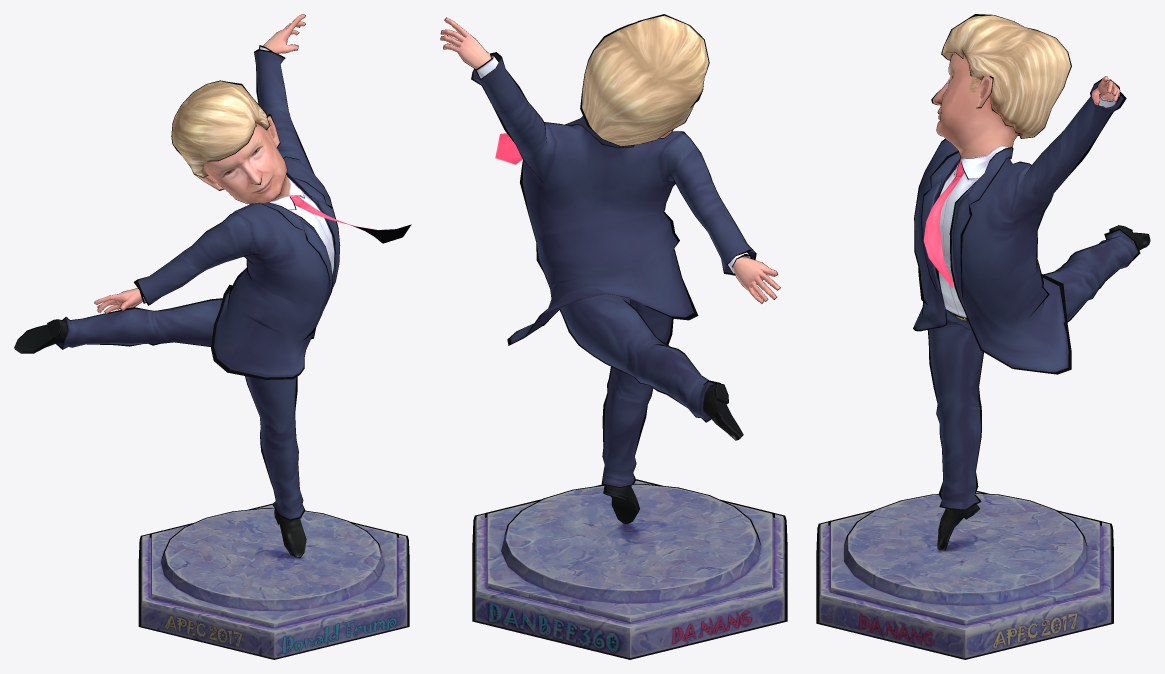
File: president_donald_j._trump__fly.glb
The picture shows the model from 3 angles, left to right: view 1: azimuth 30°, elevation 25°; view 2: azimuth 150°, elevation 25°; view 3: azimuth 270°, elevation 25°; orthographic projection. The views are drawn at different scales.
Visible parts, largest first — view 1: polySurface4, Angel_De, polySurface5; view 2: polySurface4, Angel_De, polySurface5; view 3: polySurface4, Angel_De, polySurface5.
Boxes of the visible parts, left/top/right/bottom form: polySurface4: left=14, top=14, right=383, bottom=558; Angel_De: left=138, top=503, right=409, bottom=659; polySurface5: left=14, top=14, right=411, bottom=558; polySurface4: left=440, top=15, right=780, bottom=523; Angel_De: left=472, top=479, right=787, bottom=659; polySurface5: left=440, top=14, right=780, bottom=523; polySurface4: left=914, top=15, right=1149, bottom=550; Angel_De: left=816, top=491, right=1113, bottom=659; polySurface5: left=913, top=14, right=1150, bottom=550.
Size of the model in its own units: 1.3 by 2.01 by 1.09.
Materials: 3 (2 with a texture image).
